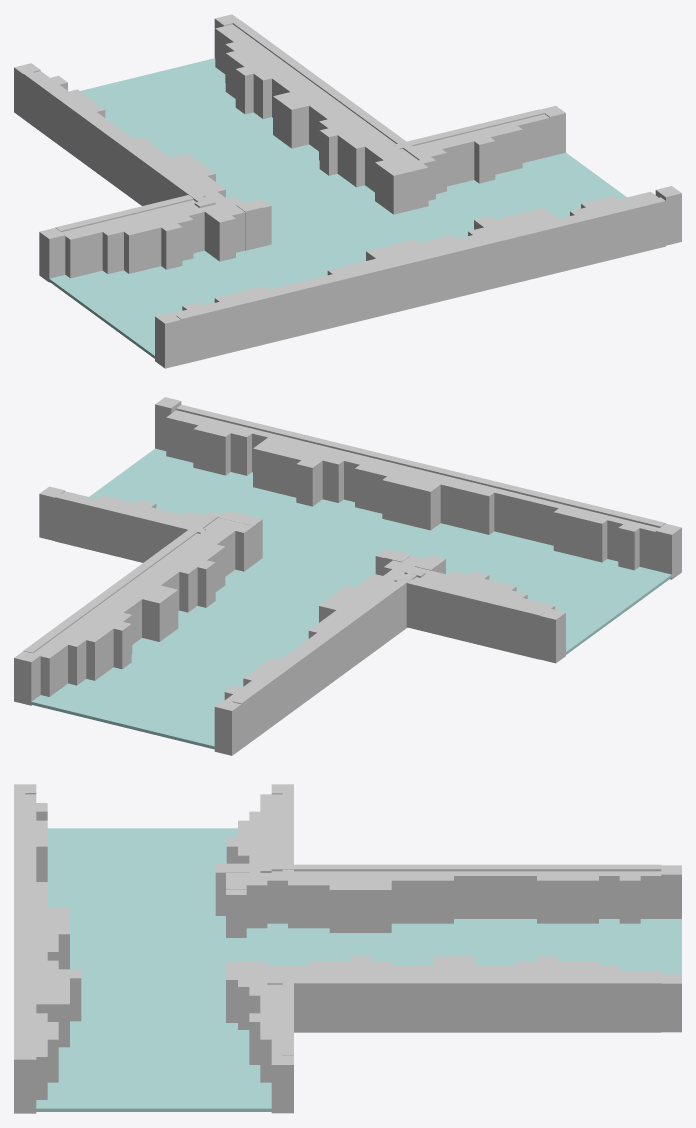
Rendered from road13.fbx.
3 renders of one model, top to bottom at view 1: azimuth 30°, elevation 25°; view 2: azimuth 150°, elevation 25°; view 3: azimuth 270°, elevation 25°, orthographic. The views are drawn at different scales.
Parts seen in each view (by area): view 1: Plane_6; view 2: Plane_6; view 3: Plane_6.
Part boxes in pixels (left/top/right/bottom): Plane_6: left=14, top=14, right=681, bottom=368; Plane_6: left=14, top=397, right=681, bottom=755; Plane_6: left=14, top=784, right=681, bottom=1113.
Size of the model in its own units: 5104 by 466 by 5139.
